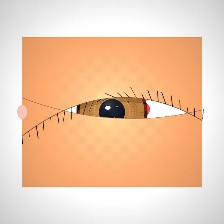hemorrhage_spot: (63, 69, 164, 150)
